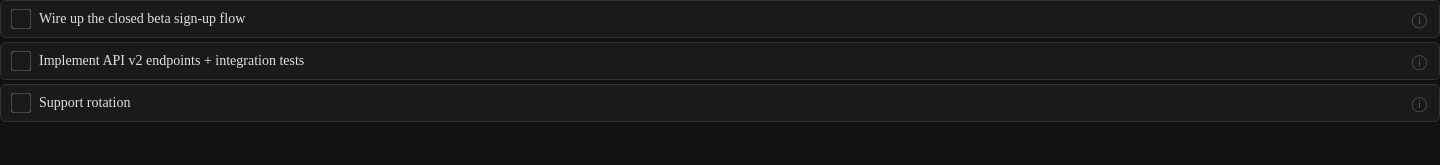
Scenario: GoalRow (via TodaysGoals) › planned goal detail includes concern name and waypoint text
What coordinates should you click on to do the following:
click the button named "toggle detail"
I would click on:
 (1419, 19)
Its box is 1410,12 -> 1429,26.
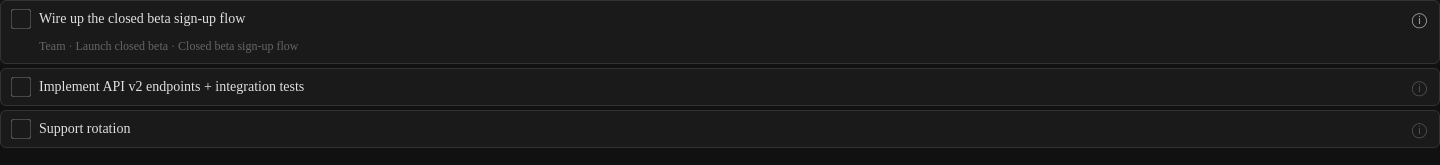
Expected: the text with class "midday-goal-row__detail" shows "Team", 39,39 -> 298,53
Expected: the text with class "midday-goal-row__detail" shows "Closed beta sign-up flow", 39,39 -> 298,53
